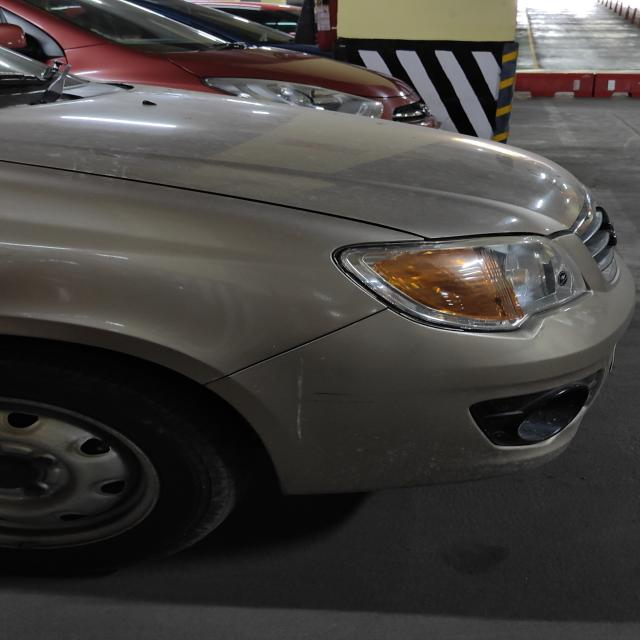scratch: (264, 361, 377, 449)
